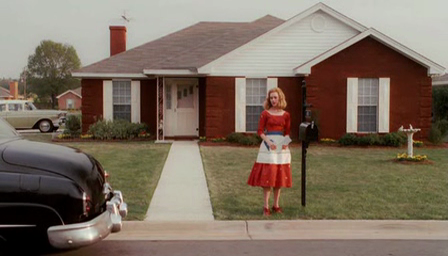els: (1, 1, 448, 256)
face: (270, 92, 279, 107)
person: (246, 87, 292, 216)
